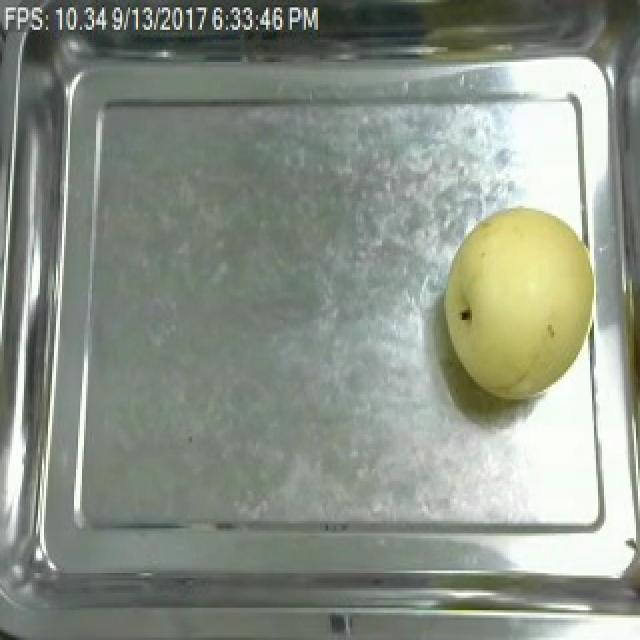Fruit: (436, 201, 606, 407)
